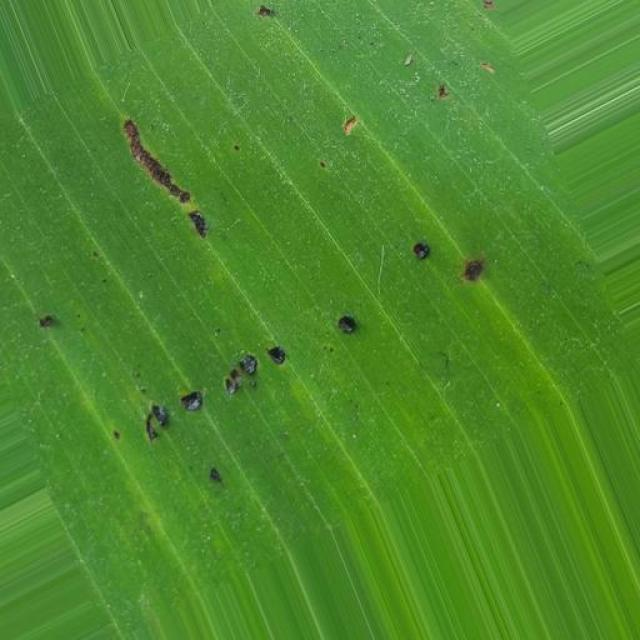Black_rot: (103, 239, 536, 491), (94, 92, 238, 269), (325, 58, 481, 154), (33, 295, 78, 364), (227, 0, 304, 31)
